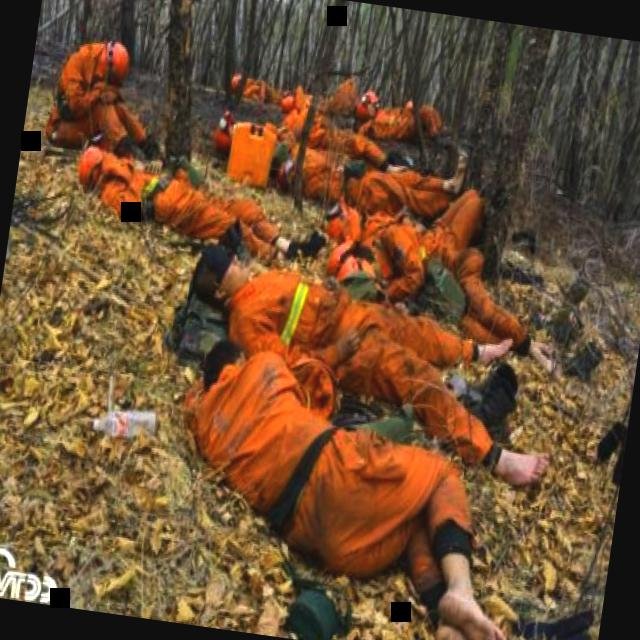Fall-Detected: (333, 162, 543, 342)
